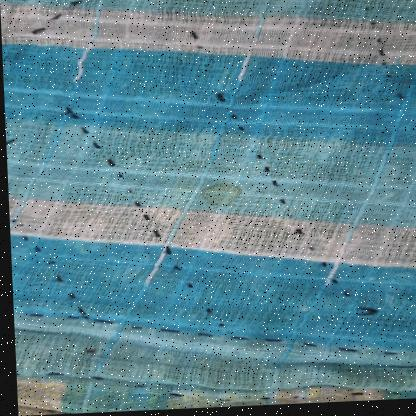spot: (191, 186, 244, 212)
